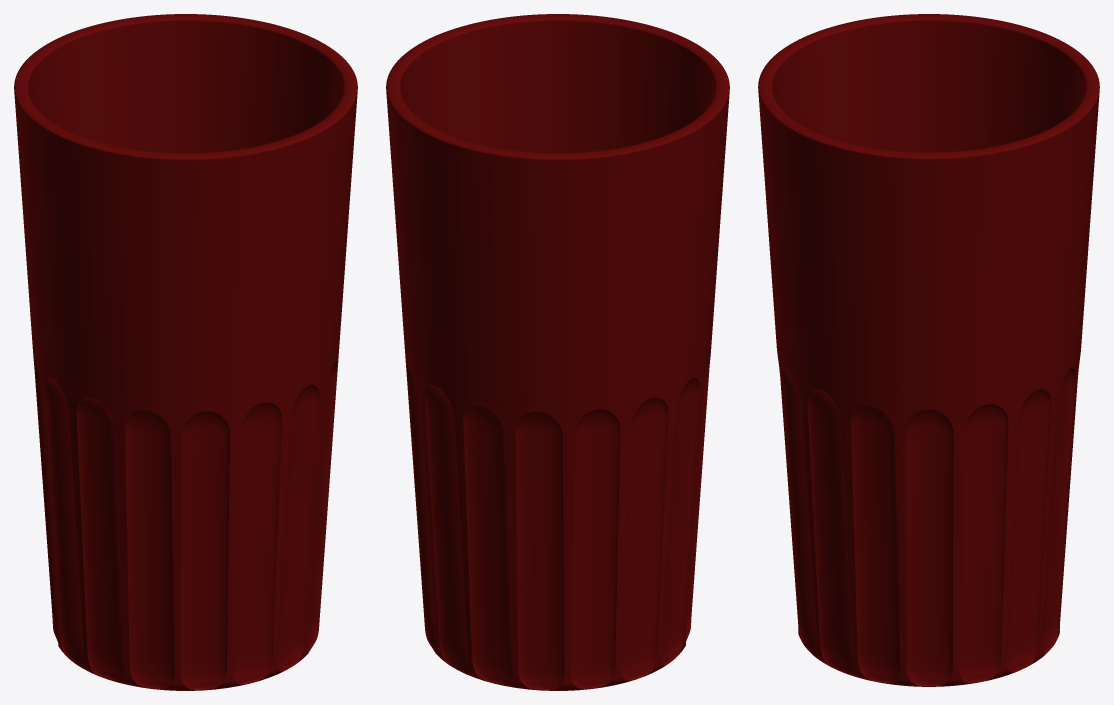
Rendered from rose80.glb.
3 views of the same model, side by side, from view 1: azimuth 30°, elevation 25°; view 2: azimuth 150°, elevation 25°; view 3: azimuth 270°, elevation 25° (orthographic).
Size of the model in its own units: 0.065 by 0.1156 by 0.065.
